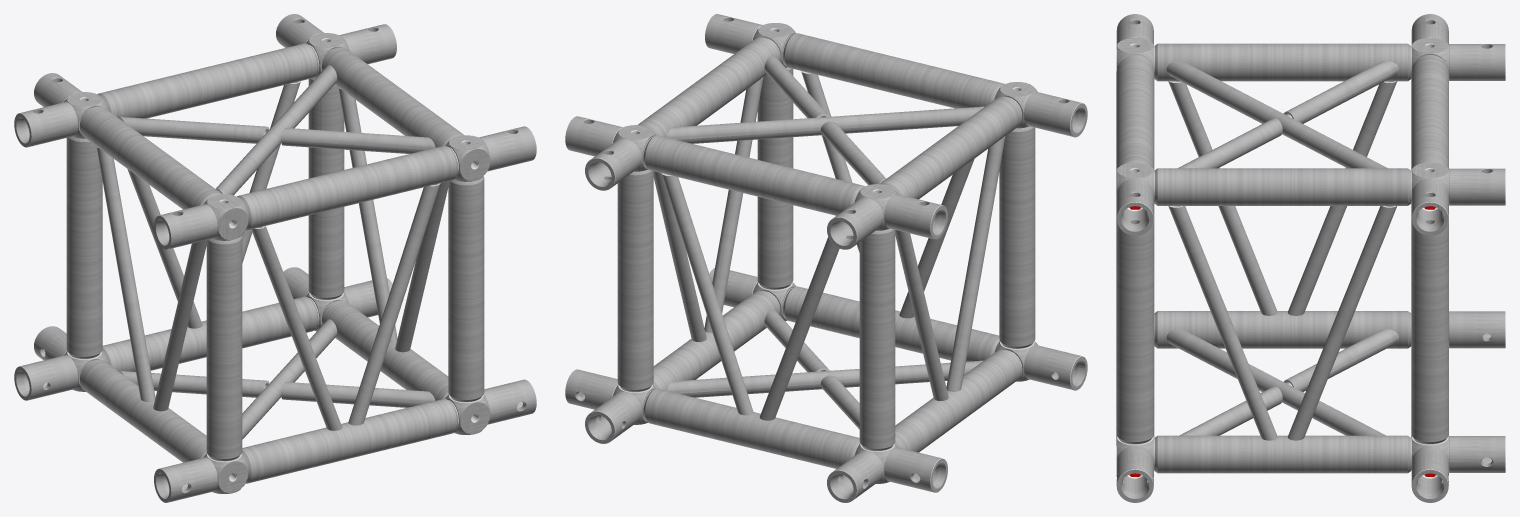
The model's file is Milos_M520_HD_Multicube-9ae1c34b.glb.
The picture shows the model from 3 angles, left to right: view 1: azimuth 30°, elevation 25°; view 2: azimuth 150°, elevation 25°; view 3: azimuth 270°, elevation 25°; orthographic projection. The views are drawn at different scales.
Parts seen in each view (by area): view 1: Geom3D (×44); view 2: Geom3D (×42); view 3: Geom3D (×32).
Part boxes in pixels (x1=…): Geom3D (×44): x1=14, y1=14, x2=536, y2=502; Geom3D (×42): x1=565, y1=14, x2=1087, y2=502; Geom3D (×32): x1=1116, y1=14, x2=1505, y2=502.
Bounding box in the file's own units: 0.7077 × 0.5285 × 0.6181.
Materials: 5 (1 with a texture image).
